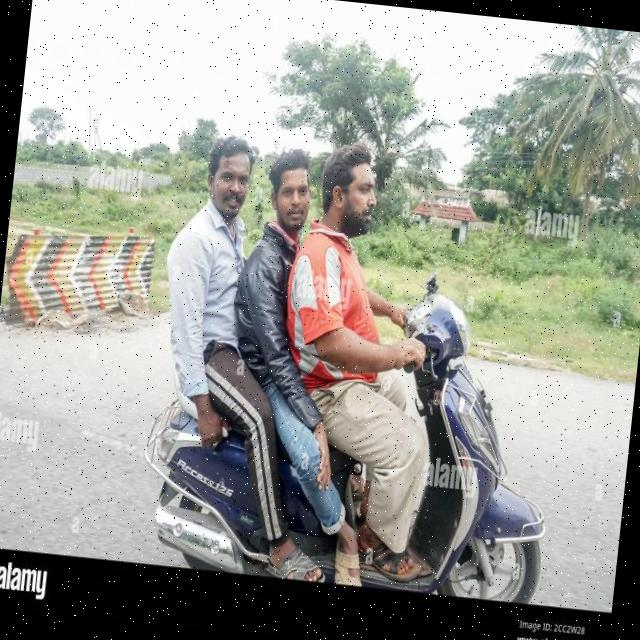Triple riding: (168, 123, 402, 404)
